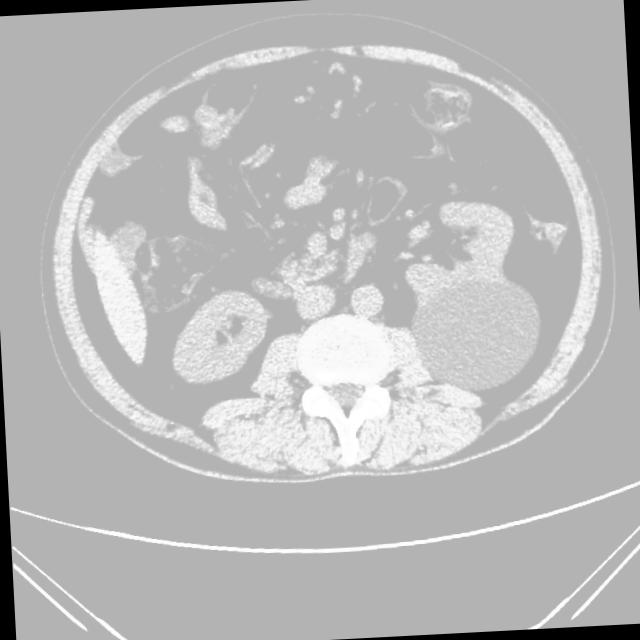cysts: (36, 25, 611, 493)
